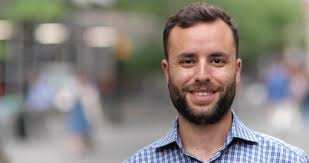white_male: (176, 21, 236, 113)
